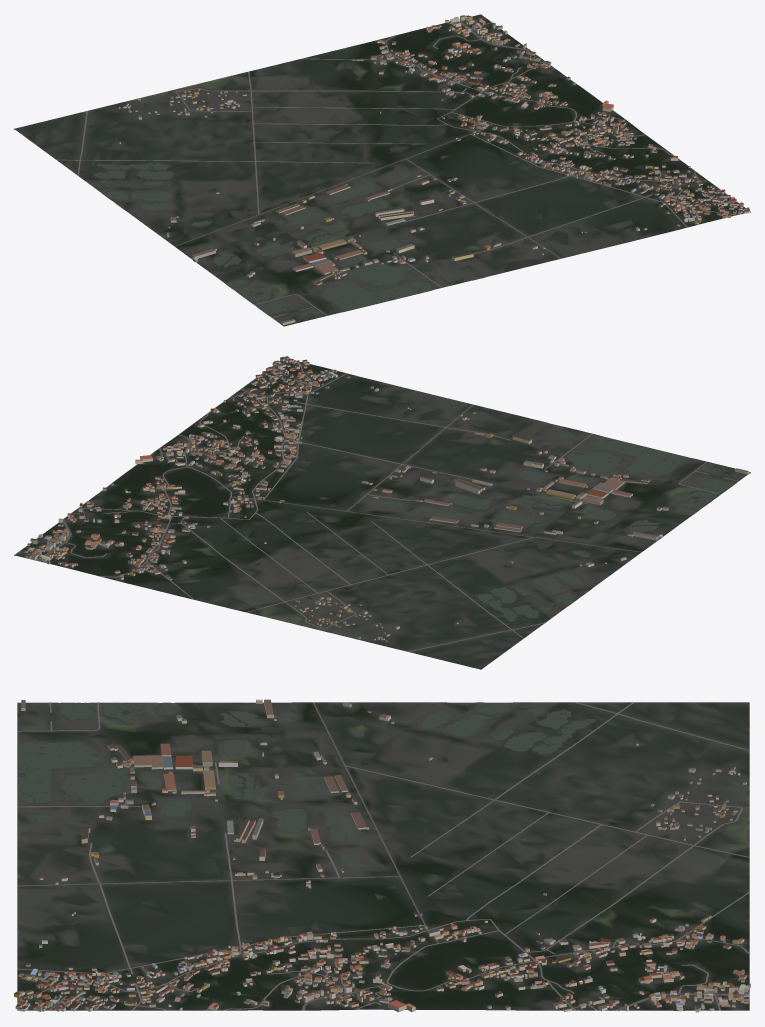
3 renders of one model, top to bottom at view 1: azimuth 30°, elevation 25°; view 2: azimuth 150°, elevation 25°; view 3: azimuth 270°, elevation 25°, orthographic. The views are drawn at different scales.
Visible parts, largest first — view 1: ground, buildings, water, roads; view 2: ground, buildings, water, roads; view 3: ground, buildings, water, roads.
Part boxes in pixels (x1=…): ground: x1=14, y1=14, x2=750, y2=326; buildings: x1=118, y1=15, x2=749, y2=325; water: x1=93, y1=163, x2=481, y2=314; roads: x1=57, y1=19, x2=742, y2=317; ground: x1=14, y1=359, x2=750, y2=669; buildings: x1=24, y1=356, x2=748, y2=641; water: x1=375, y1=424, x2=734, y2=621; roads: x1=25, y1=360, x2=738, y2=651; ground: x1=17, y1=702, x2=749, y2=1010; buildings: x1=14, y1=699, x2=750, y2=1012; water: x1=18, y1=702, x2=595, y2=868; roads: x1=16, y1=702, x2=749, y2=1010.
Size of the model in its own units: 1412 by 19.31 by 1411.
